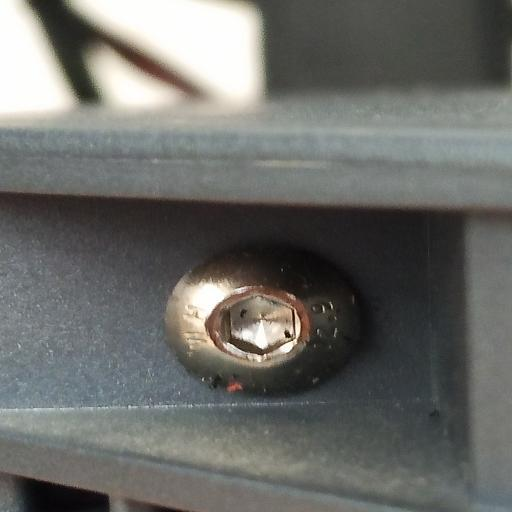Hex-Allen: (165, 246, 361, 395)
